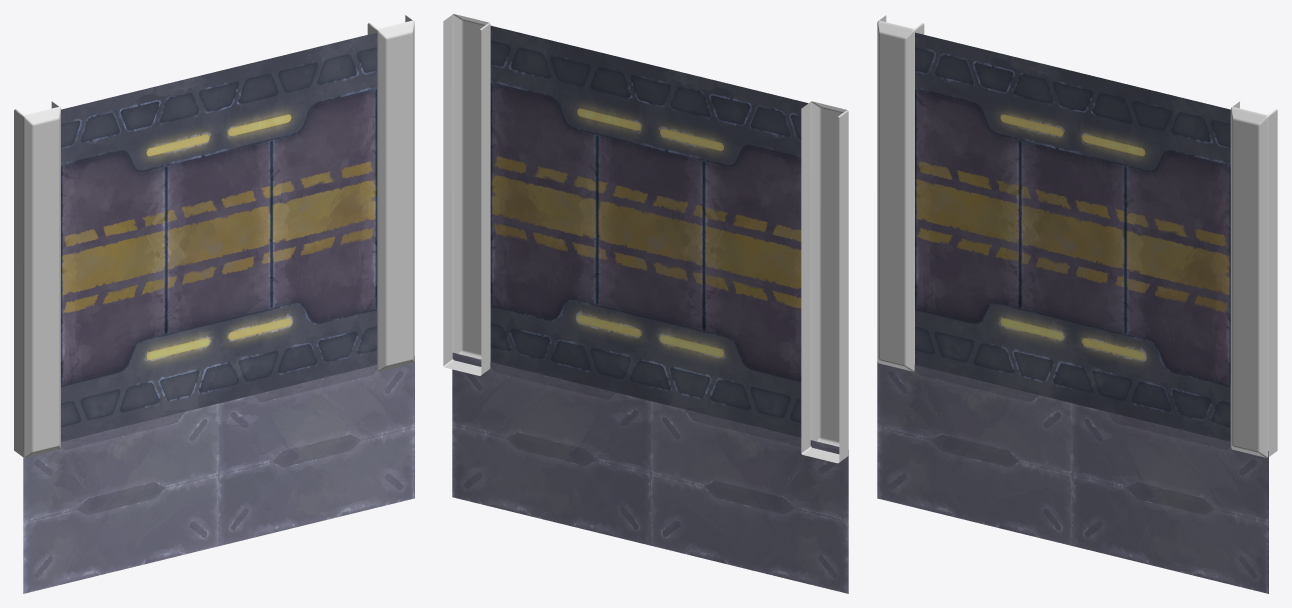
File: SM_TrimWall_07.fbx
3 renders of one model, left to right at view 1: azimuth 30°, elevation 25°; view 2: azimuth 150°, elevation 25°; view 3: azimuth 330°, elevation 25°, orthographic.
Visible parts, largest first — view 1: SM_TrimWall_07; view 2: SM_TrimWall_07; view 3: SM_TrimWall_07.
Part boxes in pixels (x1,y1,x2,y2): SM_TrimWall_07: (14,15,414,593); SM_TrimWall_07: (443,14,848,593); SM_TrimWall_07: (877,15,1277,593).
Bounding box in the file's own units: 600 × 700 × 35.47.
